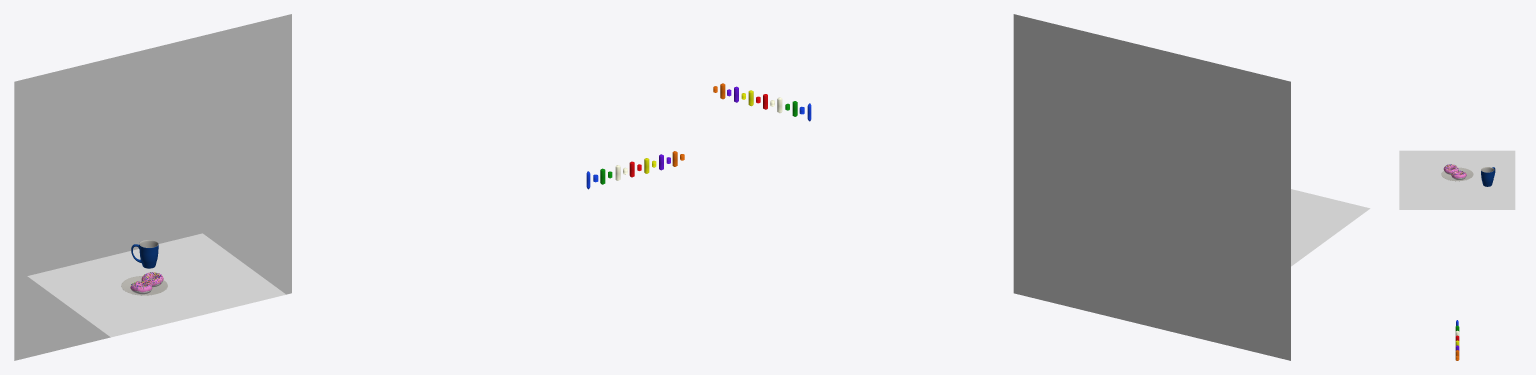
File: Tutorial8.fbx
The picture shows the model from 3 angles, left to right: view 1: azimuth 30°, elevation 25°; view 2: azimuth 150°, elevation 25°; view 3: azimuth 270°, elevation 25°; orthographic projection. The views are drawn at different scales.
Parts seen in each view (by area): view 1: Plane.001, Plane, Cylinder; view 2: Plane.001, Plane; view 3: Plane, Cylinder, Cylinder.001.
Boxes of the visible parts, bbox=[...] form: Plane.001: bbox=[14, 14, 291, 360]; Plane: bbox=[27, 233, 285, 337]; Cylinder: bbox=[131, 240, 158, 268]; Plane.001: bbox=[1013, 14, 1290, 360]; Plane: bbox=[1291, 189, 1370, 266]; Plane: bbox=[1399, 150, 1515, 209]; Cylinder: bbox=[1481, 167, 1495, 186]; Cylinder.001: bbox=[1441, 167, 1473, 181].
Size of the model in its own units: 10103 by 4323 by 2473.
